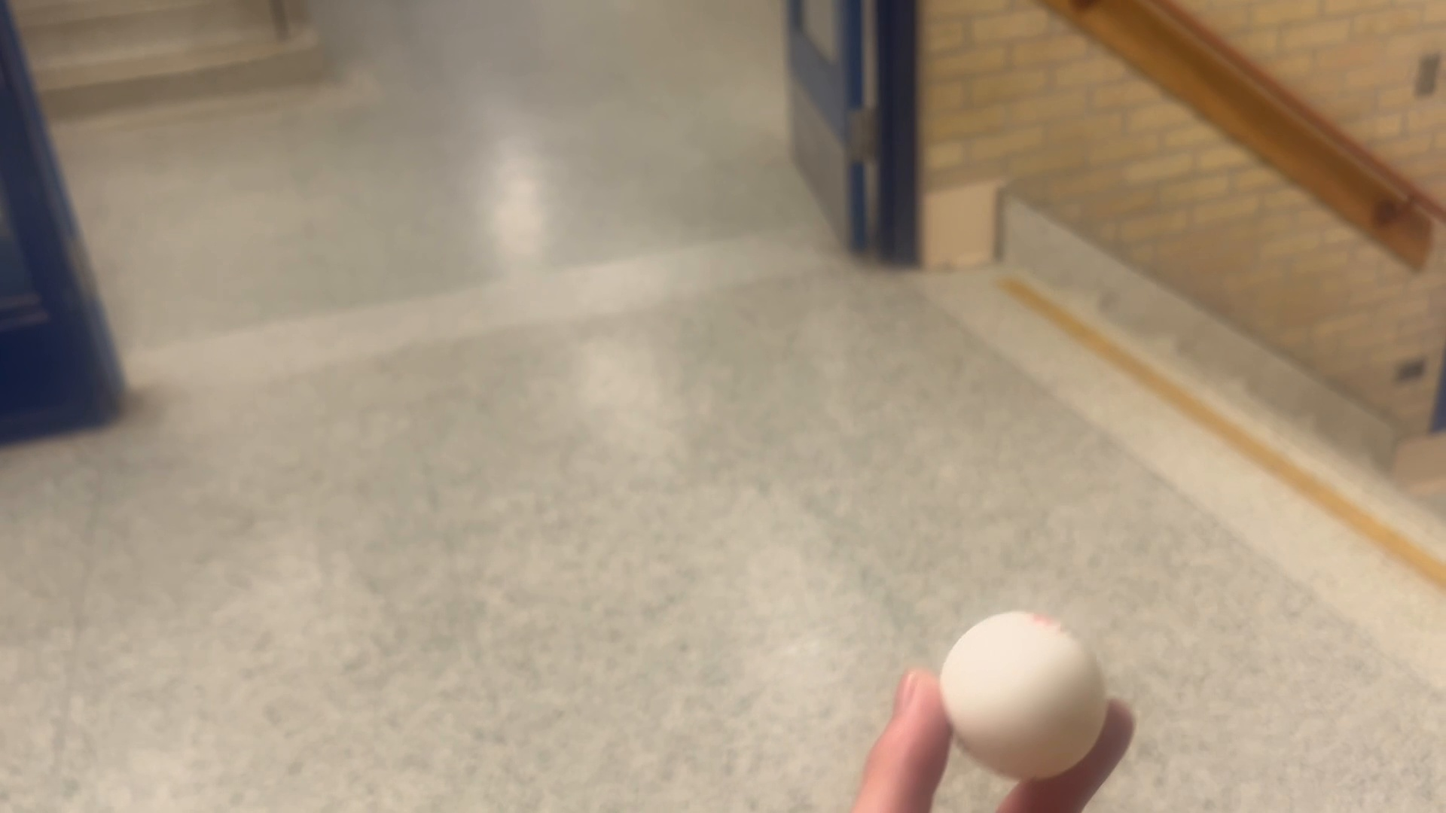Ball: (928, 587, 1112, 792)
